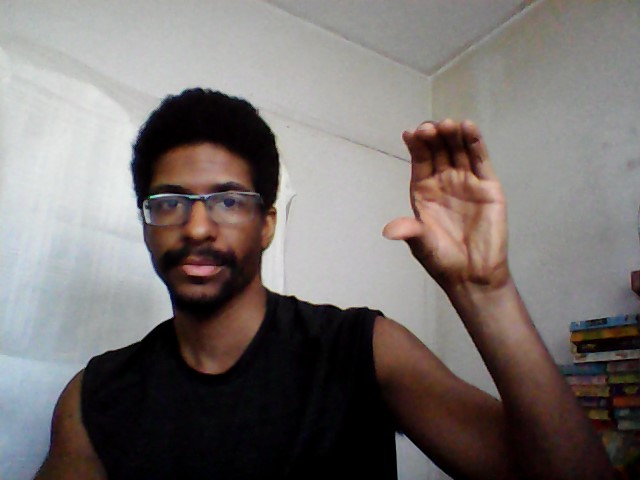c: (376, 108, 518, 288)
